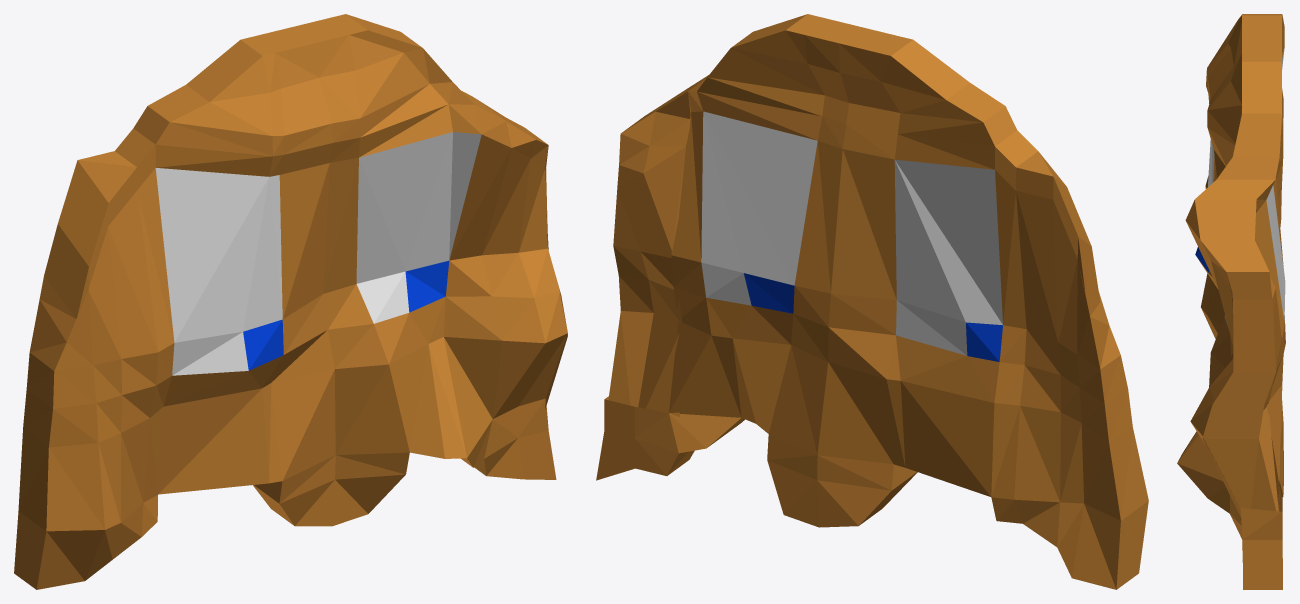
Rendered from FantasminoPacMan.fbx.
3 renders of one model, left to right at view 1: azimuth 30°, elevation 25°; view 2: azimuth 150°, elevation 25°; view 3: azimuth 270°, elevation 25°, orthographic. The views are drawn at different scales.
Parts seen in each view (by area): view 1: pCube1; view 2: pCube1; view 3: pCube1.
Part boxes in pixels (left/top/right/bottom): pCube1: left=14, top=14, right=567, bottom=589; pCube1: left=596, top=14, right=1148, bottom=589; pCube1: left=1177, top=14, right=1285, bottom=589.
Size of the model in its own units: 1.86 by 1.7 by 0.3763.
